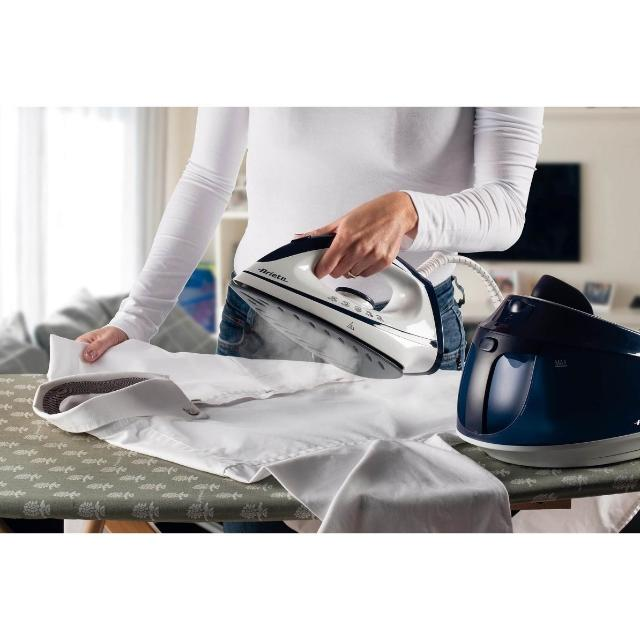Clothes-Iron: (232, 231, 454, 381)
